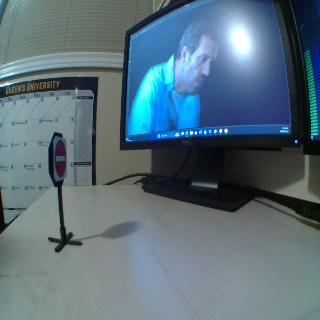sign_noentry: (52, 137, 67, 180)
